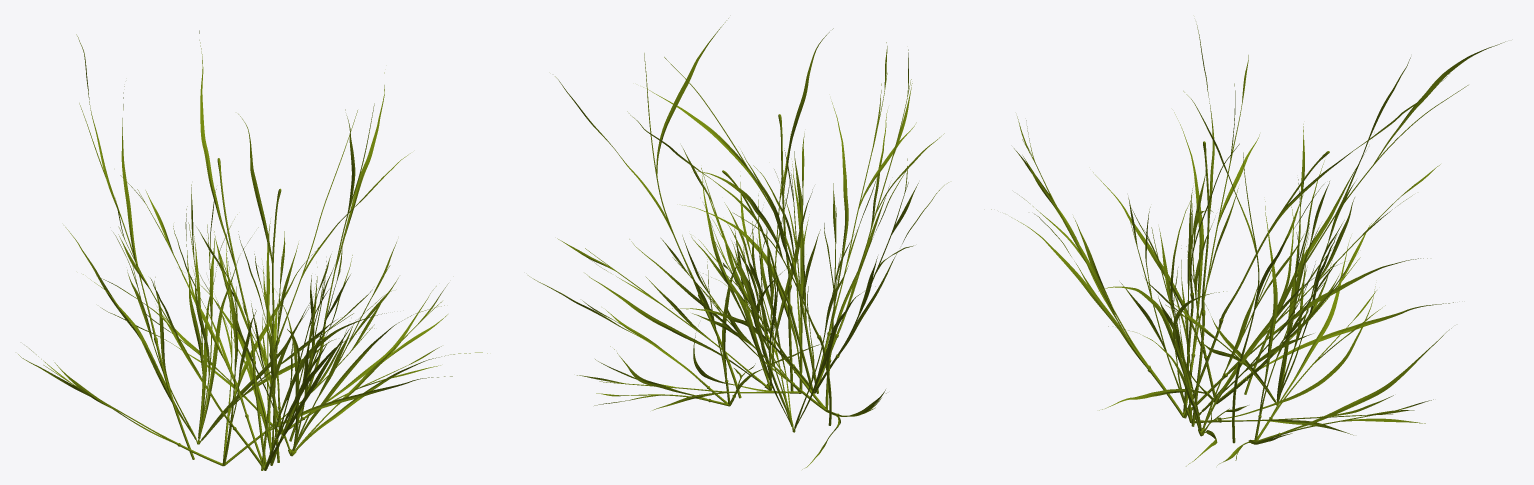
3 views of the same model, side by side, from view 1: azimuth 30°, elevation 25°; view 2: azimuth 150°, elevation 25°; view 3: azimuth 270°, elevation 25° (orthographic). The views are drawn at different scales.
Parts seen in each view (by area): view 1: iPlants_Field_Grass_Pack_09; view 2: iPlants_Field_Grass_Pack_09; view 3: iPlants_Field_Grass_Pack_09.
Boxes of the visible parts, bbox=[...] form: iPlants_Field_Grass_Pack_09: bbox=[18, 30, 487, 470]; iPlants_Field_Grass_Pack_09: bbox=[528, 18, 948, 469]; iPlants_Field_Grass_Pack_09: bbox=[991, 24, 1505, 466].
Bounding box in the file's own units: 70.62 × 62.99 × 78.49.
